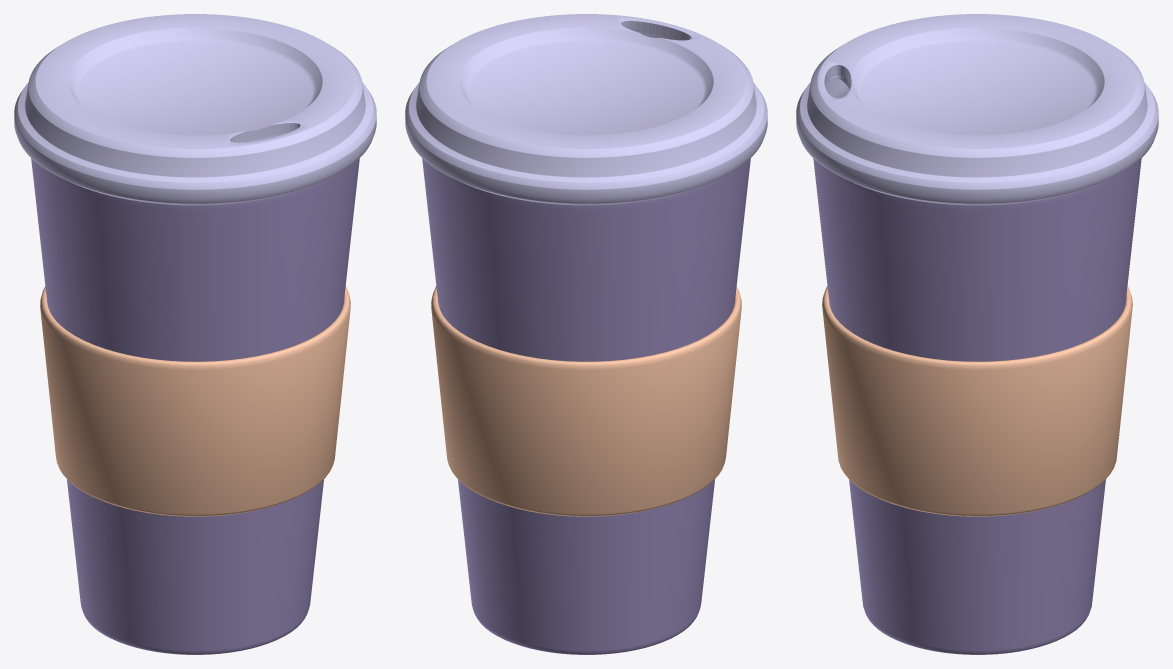
Rendered from copo-cafe.glb.
The picture shows the model from 3 angles, left to right: view 1: azimuth 30°, elevation 25°; view 2: azimuth 150°, elevation 25°; view 3: azimuth 270°, elevation 25°; orthographic projection.
Visible parts, largest first — view 1: Cafe_Corpo, Cafe_Tampa, Cafe_Faixa_Pessego; view 2: Cafe_Corpo, Cafe_Tampa, Cafe_Faixa_Pessego; view 3: Cafe_Corpo, Cafe_Tampa, Cafe_Faixa_Pessego.
Boxes of the visible parts, bbox=[...] form: Cafe_Corpo: bbox=[31, 158, 359, 654]; Cafe_Tampa: bbox=[14, 14, 376, 205]; Cafe_Faixa_Pessego: bbox=[40, 286, 350, 516]; Cafe_Corpo: bbox=[422, 158, 750, 654]; Cafe_Tampa: bbox=[405, 14, 767, 205]; Cafe_Faixa_Pessego: bbox=[431, 286, 741, 516]; Cafe_Corpo: bbox=[813, 158, 1141, 654]; Cafe_Tampa: bbox=[796, 14, 1158, 205]; Cafe_Faixa_Pessego: bbox=[822, 286, 1132, 516].
Bounding box in the file's own units: 0.0884 × 0.142 × 0.0884.
